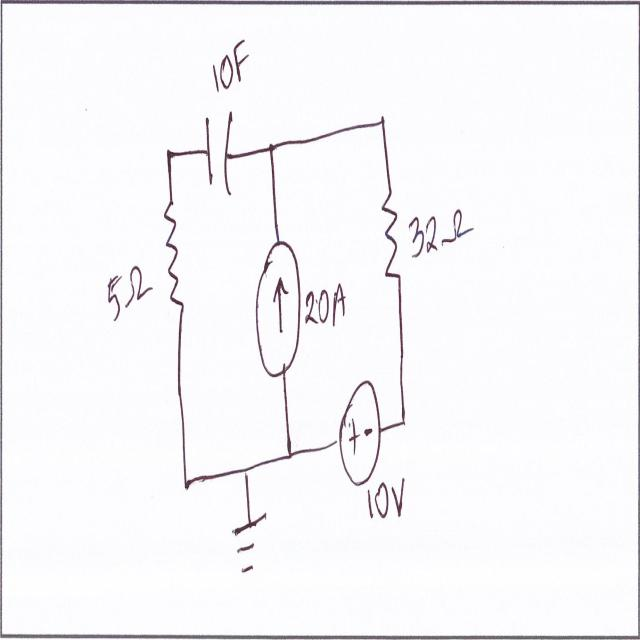capacitor: (200, 104, 237, 196)
current_source: (251, 231, 303, 384)
ground: (228, 510, 272, 577)
resistor: (160, 195, 188, 315), (377, 185, 403, 292)
voltage_source: (337, 375, 382, 490)
